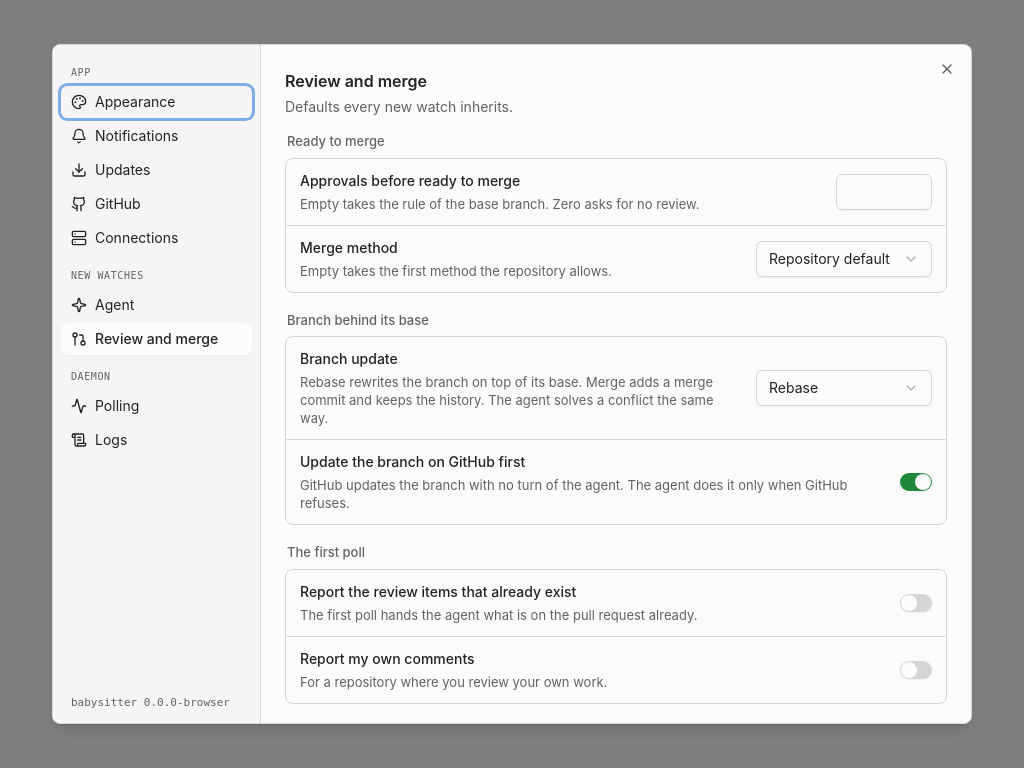
a save still running when you leave its page keeps its line until it ends
Click the switch named "Report my own comments" in the row of "Report my own comments" at (916, 670), box [900, 660, 932, 679]
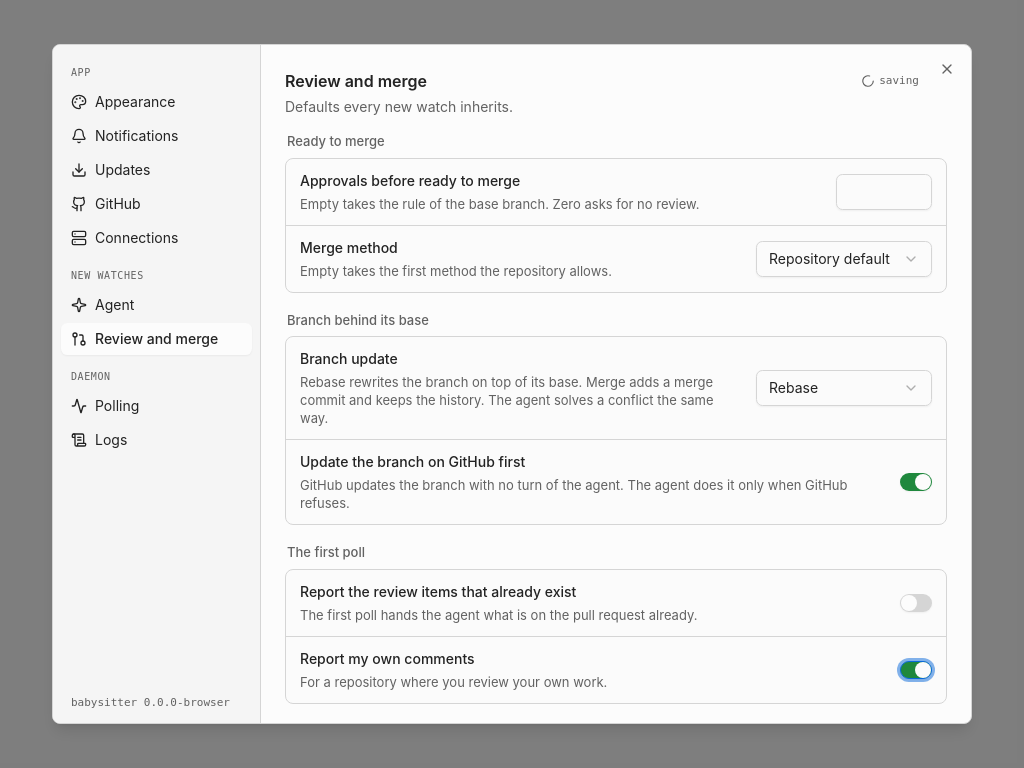
Click the button "Agent" at (156, 305), box [61, 289, 252, 321]
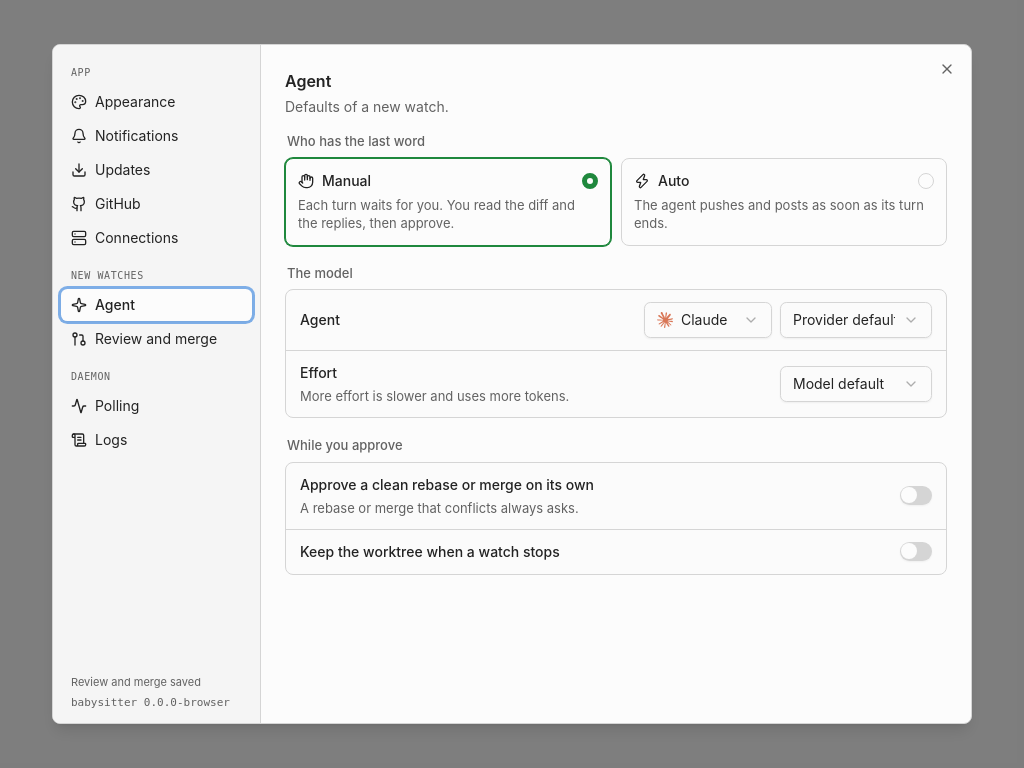
Expected: the text "Review and merge saved" is shown, [71, 675, 201, 689]
